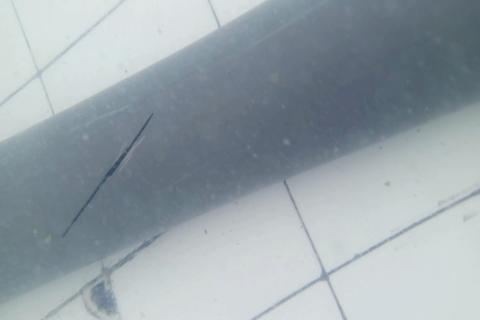keretakan: (61, 110, 155, 236)
